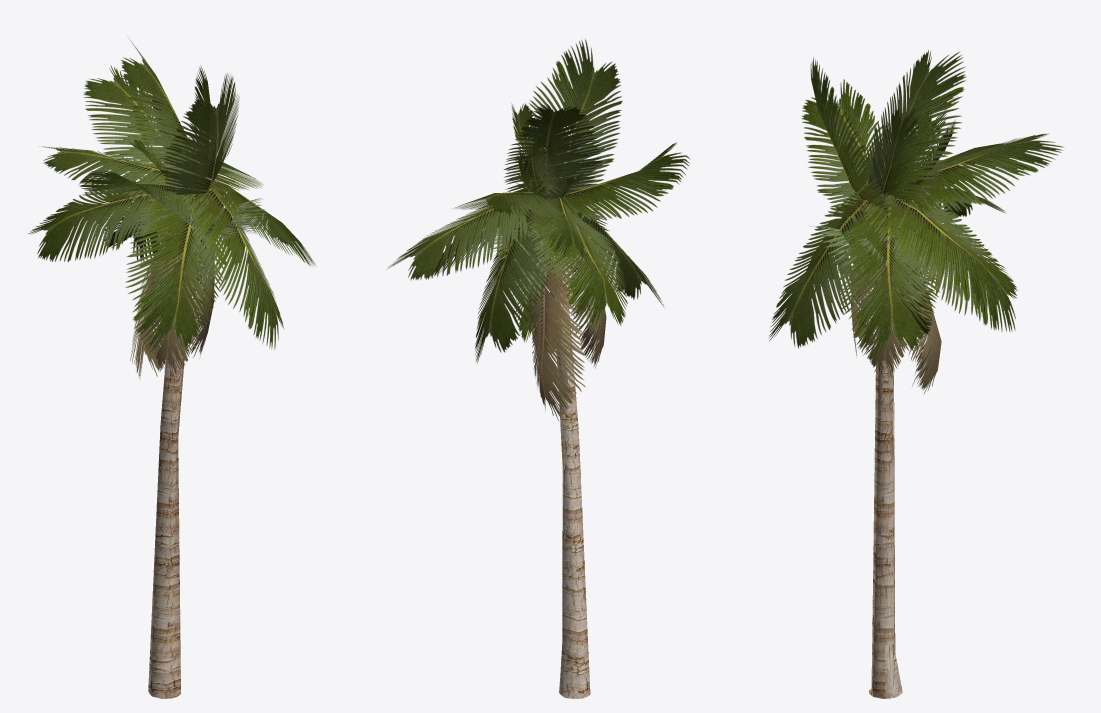
File: palmeira_alta_lod.gltf
The picture shows the model from 3 angles, left to right: view 1: azimuth 30°, elevation 25°; view 2: azimuth 150°, elevation 25°; view 3: azimuth 270°, elevation 25°; orthographic projection. The views are drawn at different scales.
Visible parts, largest first — view 1: palmeira_alta_lod; view 2: palmeira_alta_lod; view 3: palmeira_alta_lod.
Part boxes in pixels (left/top/right/bottom): palmeira_alta_lod: left=28, top=36, right=315, bottom=698; palmeira_alta_lod: left=387, top=39, right=690, bottom=698; palmeira_alta_lod: left=769, top=50, right=1063, bottom=698.
Bounding box in the file's own units: 8.19 × 16.82 × 7.66.
Materials: 4 (4 with a texture image).
